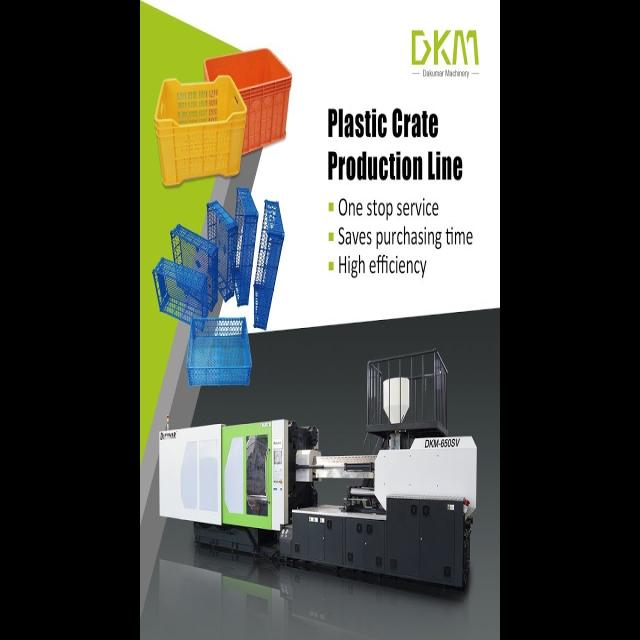basket: (199, 30, 313, 156), (151, 72, 252, 186), (207, 187, 259, 305), (139, 255, 221, 329), (249, 199, 289, 329), (186, 318, 252, 386), (170, 223, 218, 310)
